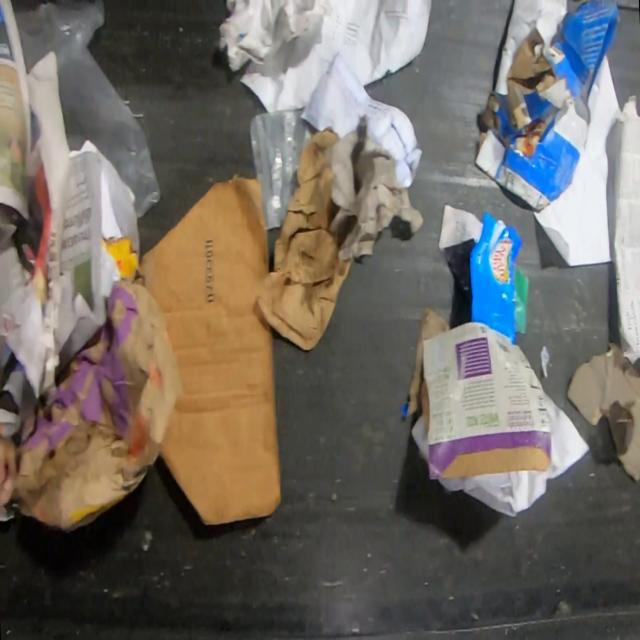cardboard: (120, 170, 284, 527), (474, 0, 623, 211), (56, 142, 142, 375), (468, 208, 524, 344), (398, 301, 454, 436)
soft_plastic: (12, 0, 163, 221), (248, 106, 320, 228)
